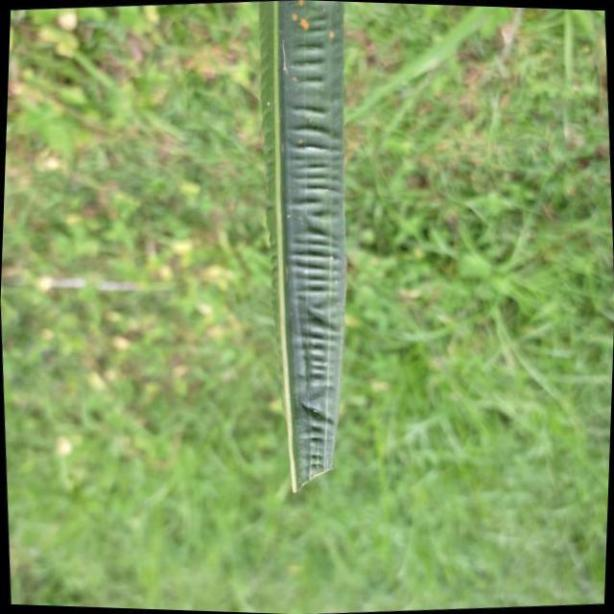Boron: (248, 0, 348, 495)
